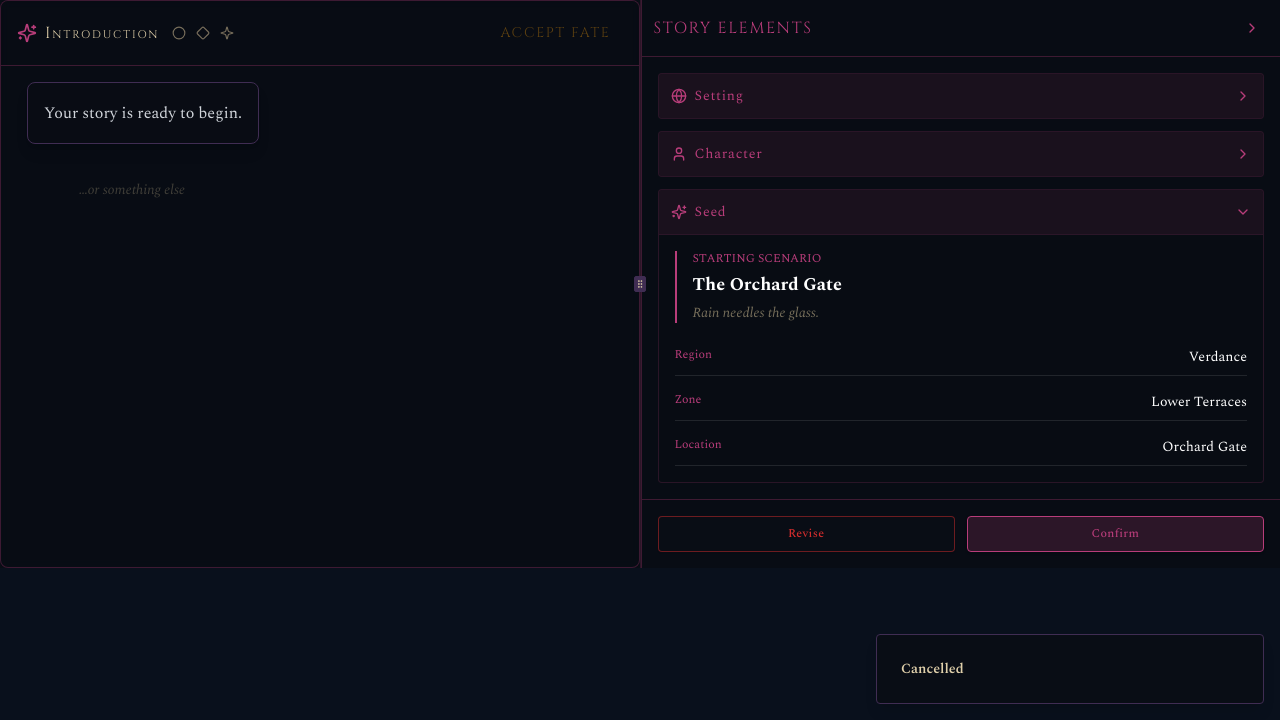
Test: genesis stage waiter › marks the failed stage when this run's failure is the first record read after the post (before it: no run)
Click the button "Confirm": (1115, 534) [967,516,1264,552]
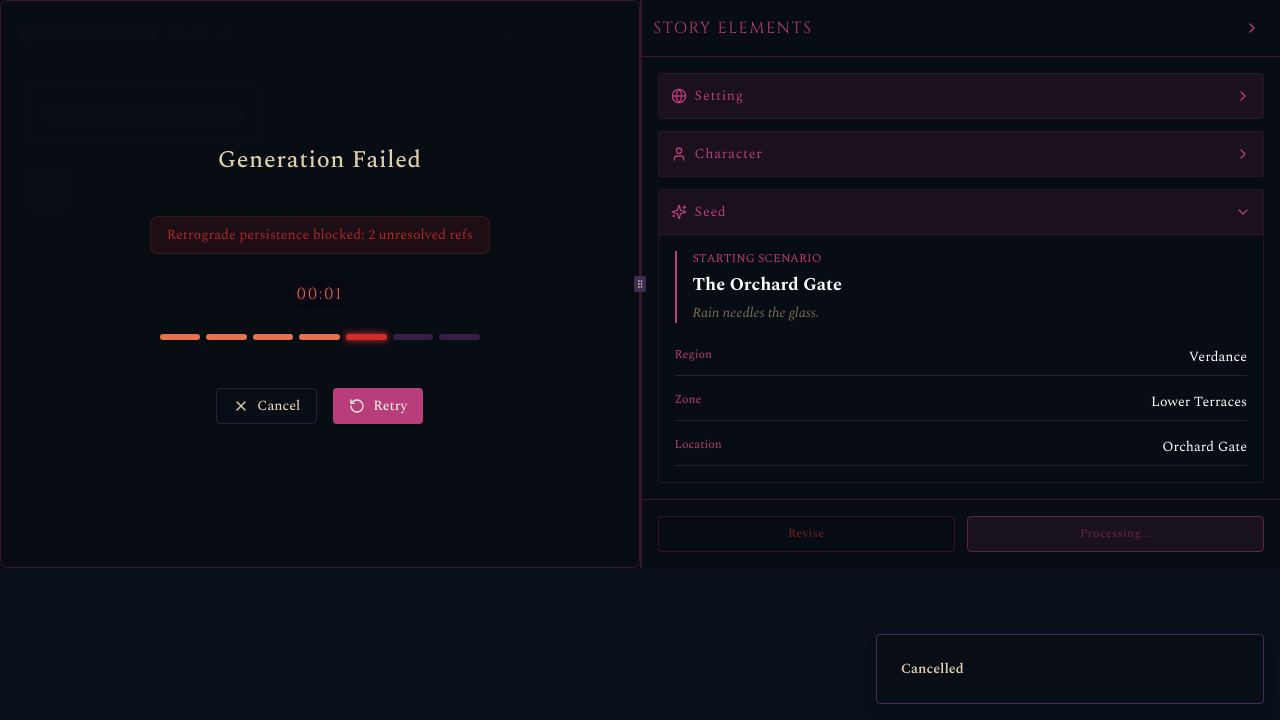
Expected: the text "Retrograde persistence blocked: 2 unresolved refs" is shown, [150,216,490,254]
